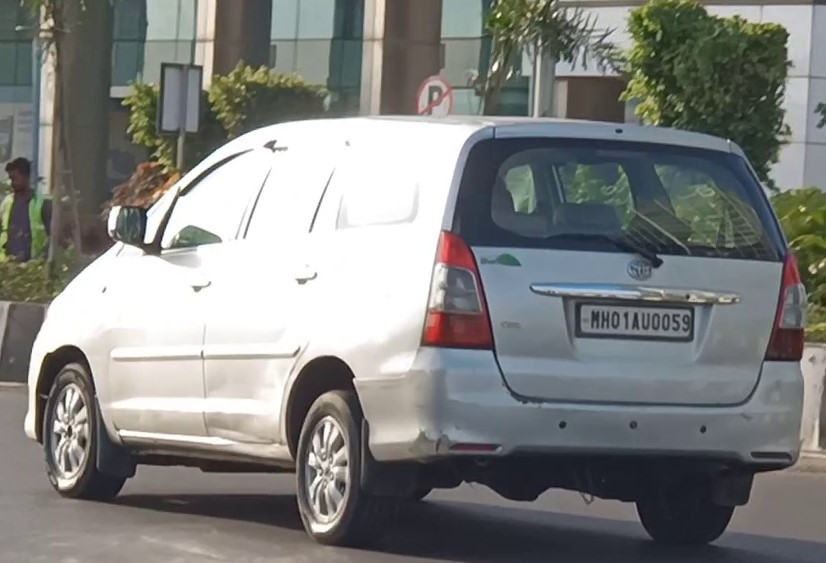MH01AU0059: (580, 306, 692, 338)
